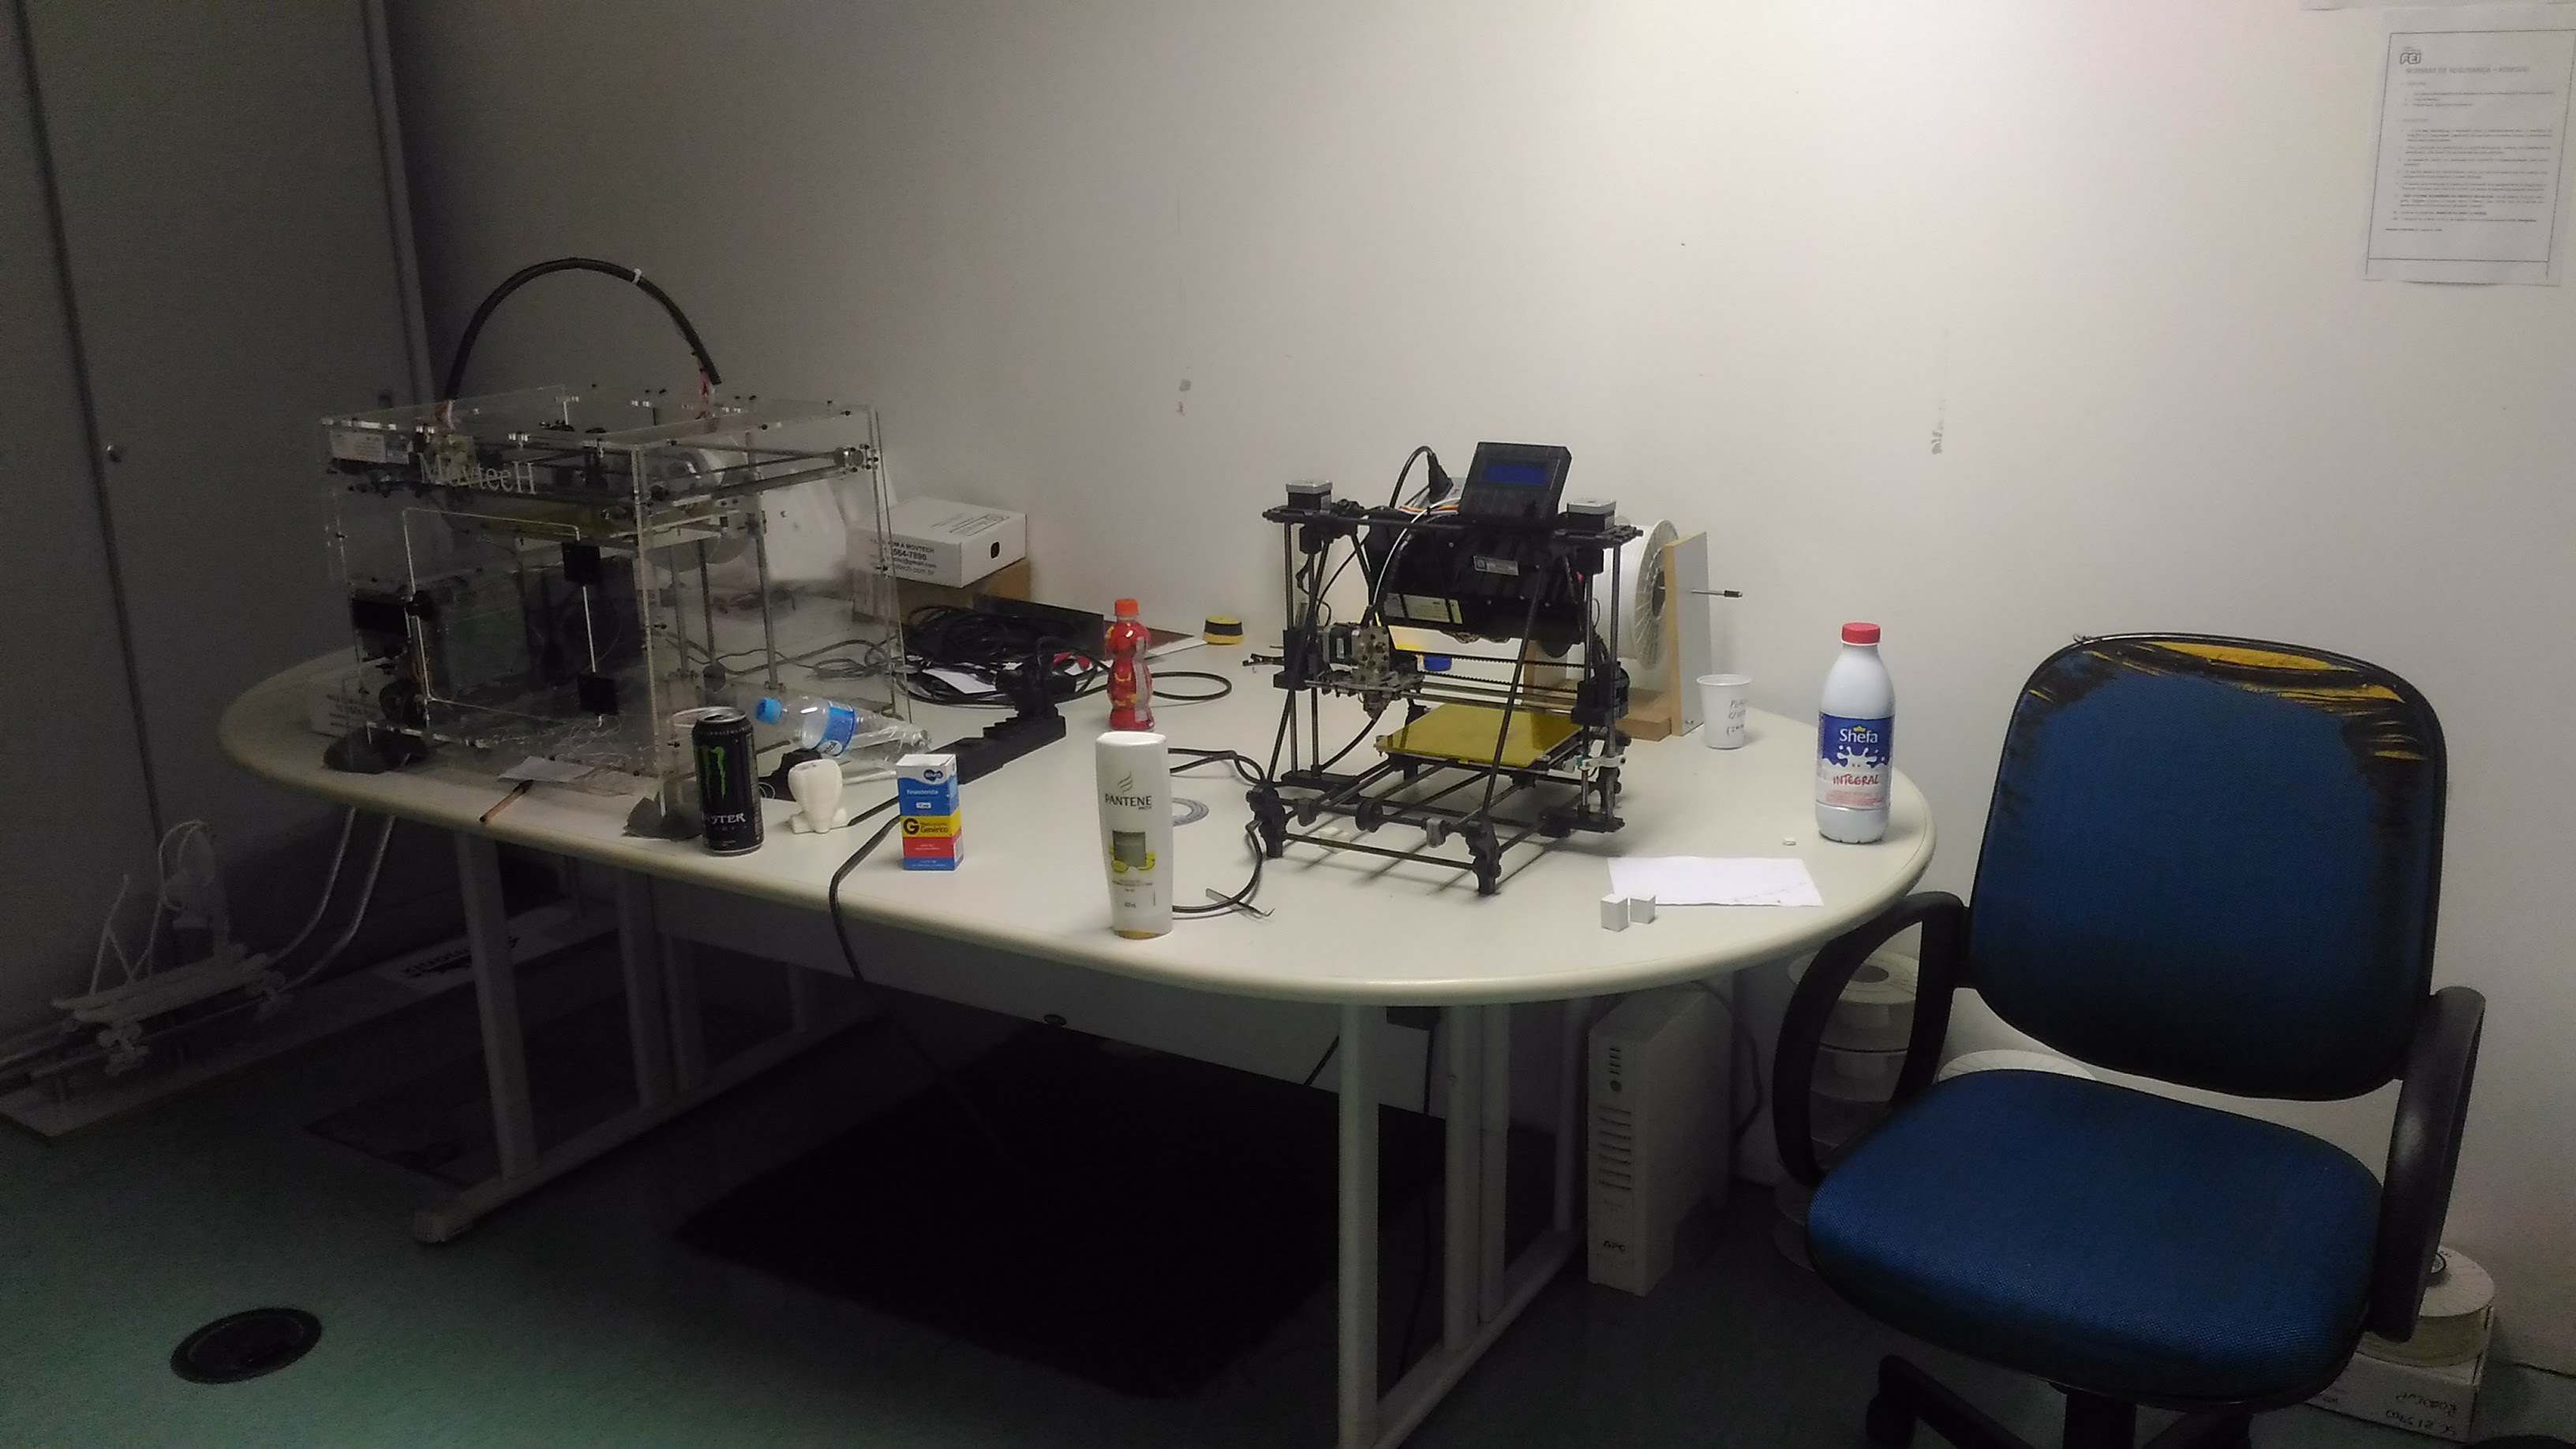iron_man: (1096, 600, 1159, 741)
medicine: (893, 741, 976, 882)
milk_bottle: (1815, 616, 1906, 857)
monster: (681, 703, 768, 861)
shampoo: (1092, 720, 1179, 945)
